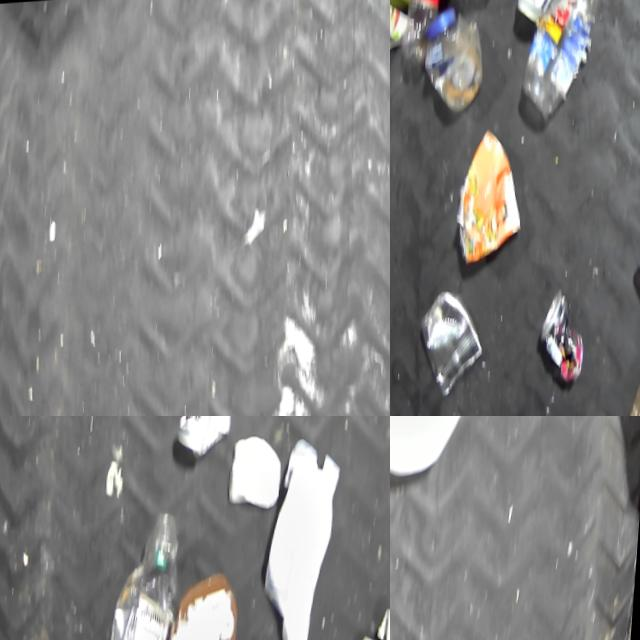can: (422, 287, 495, 401), (543, 289, 596, 387), (517, 0, 564, 28)
milk_jug: (390, 416, 488, 482)
non_white_jug: (106, 511, 191, 640)
plastic_bottle: (516, 0, 625, 122), (397, 0, 450, 67)
